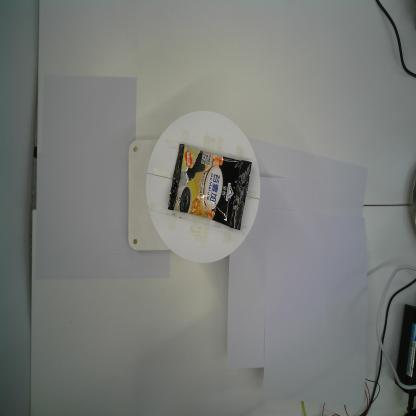Instant Drink: (167, 143, 252, 231)
